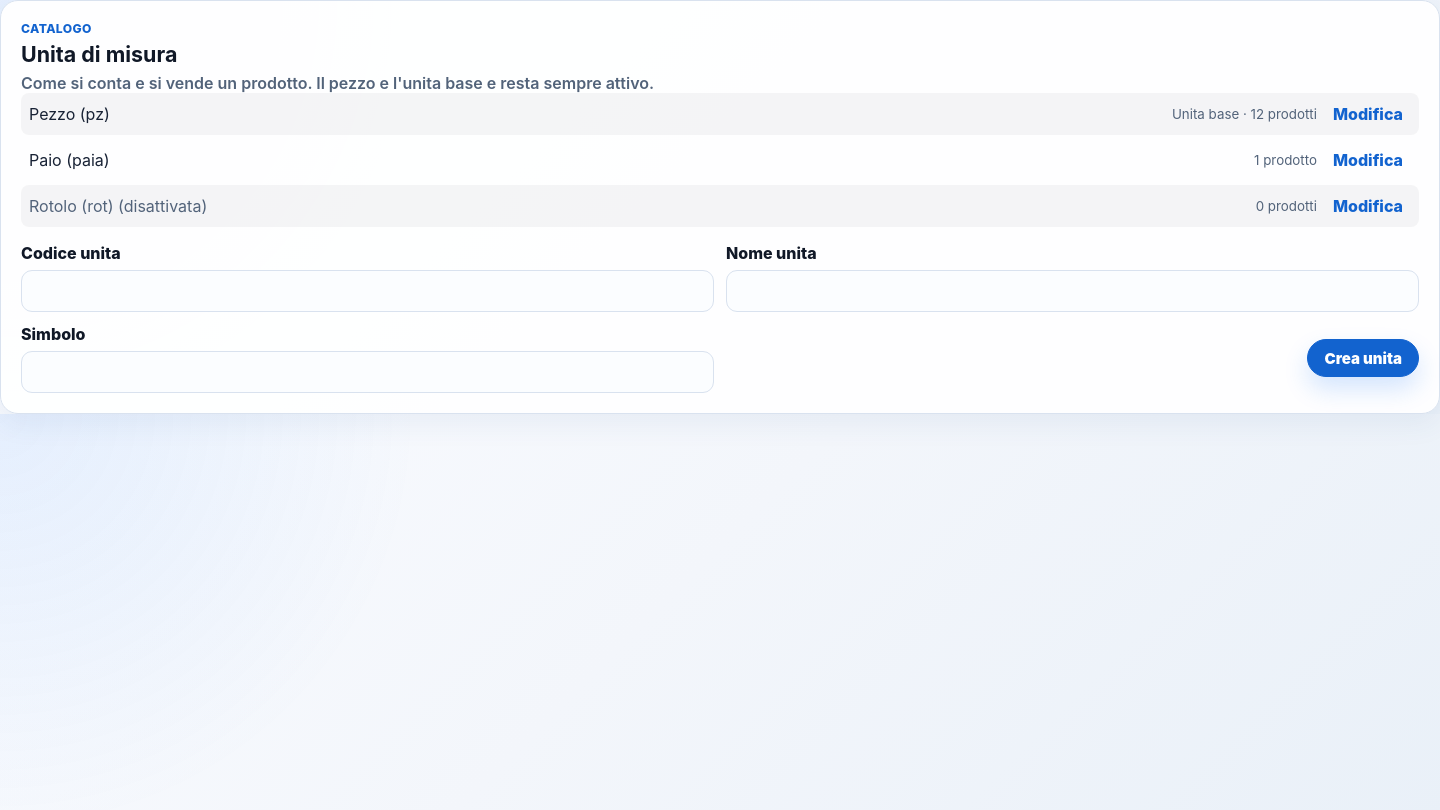
Scenario: UnitManager › elenca le unita con uso e stato e ne crea una nuova
Expected: the text "Unita base · 12 prodotti" is shown, [1172,106,1317,122]
Expected: the text "1 prodotto" is shown, [1254,152,1317,168]
Type "BOX" into the field labelled "Codice unita" at x=368, y=291, box [21,270,714,312]
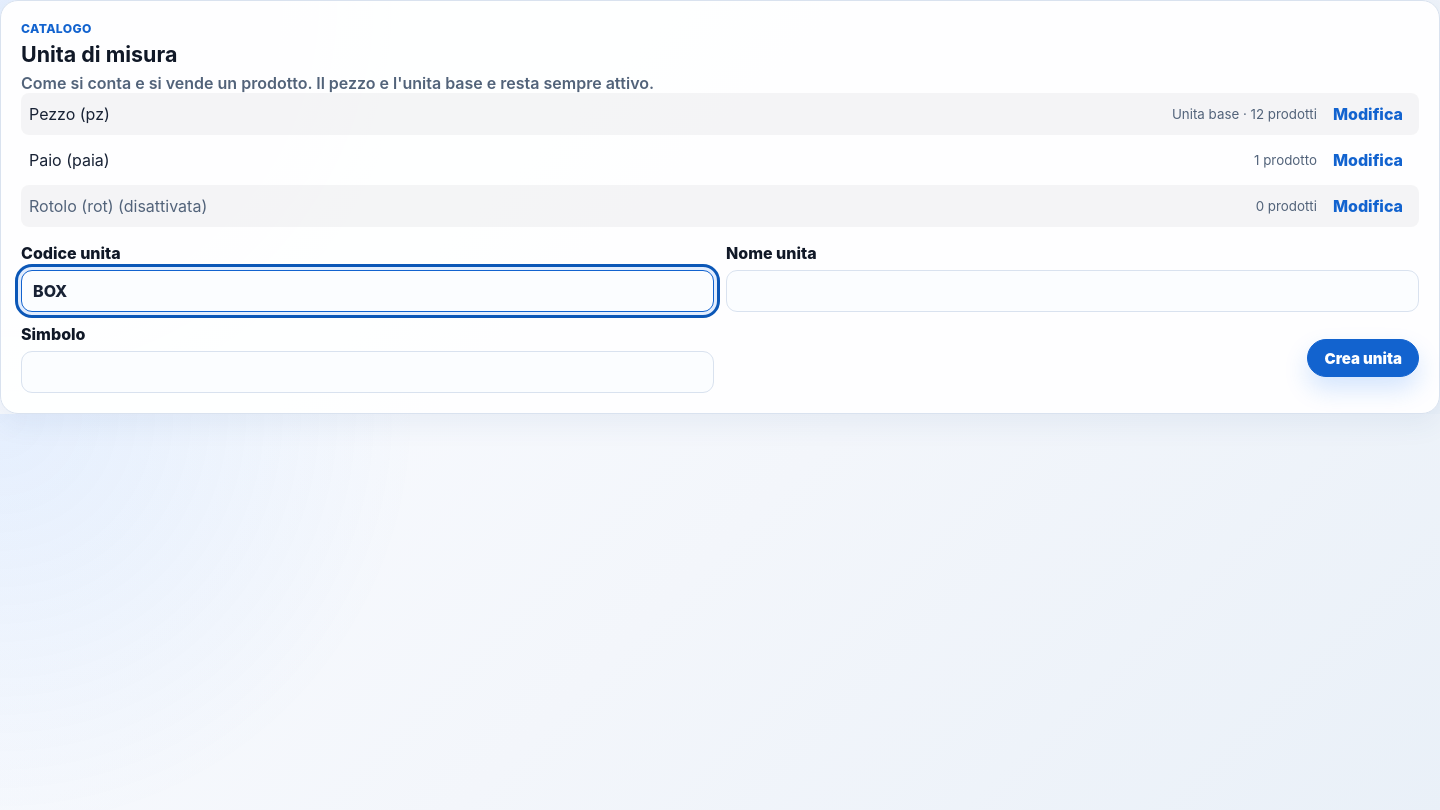
Type " Scatola " into the field labelled "Nome unita" at x=1072, y=291, box [726,270,1419,312]
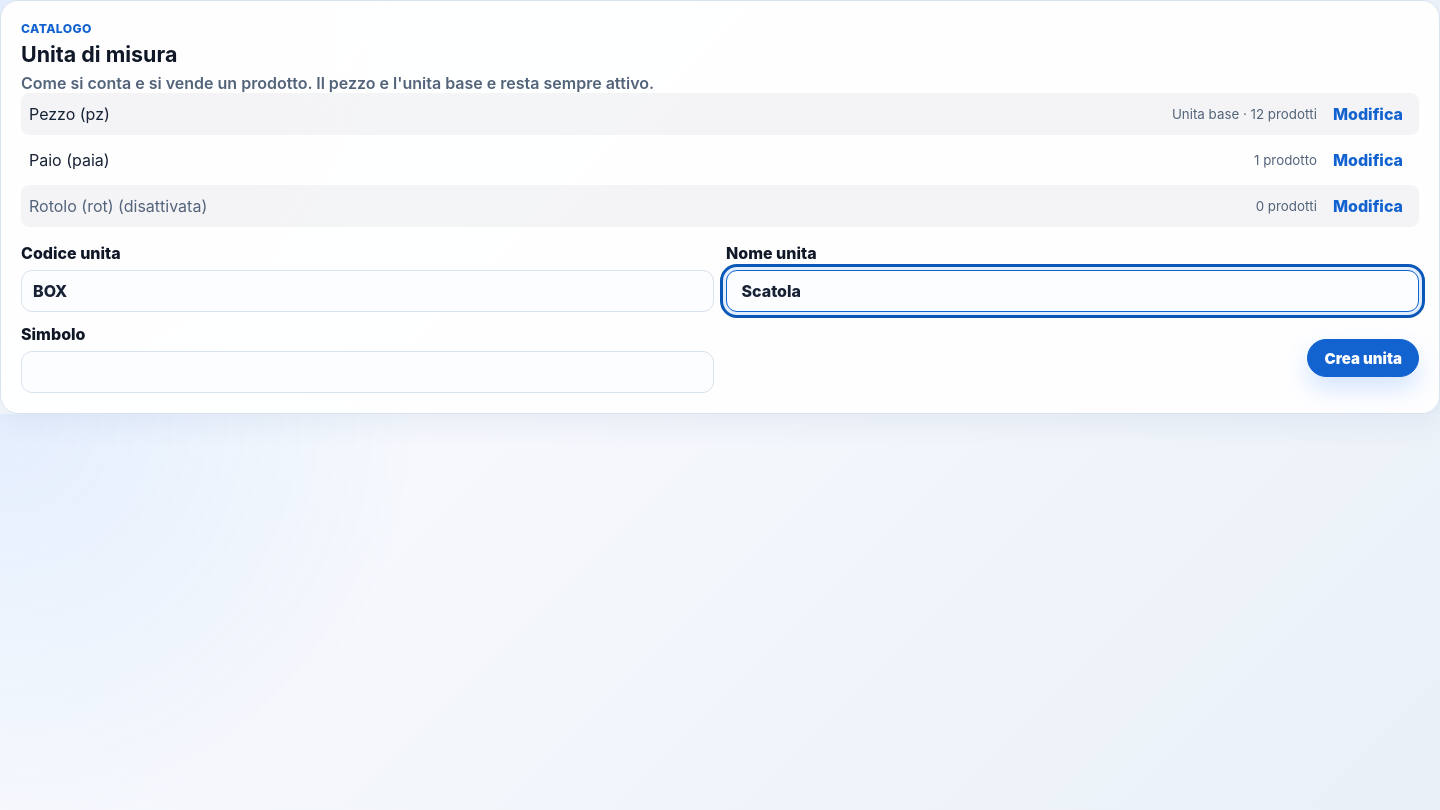
Type "sc" into the field labelled "Simbolo" at x=368, y=372, box [21,351,714,393]
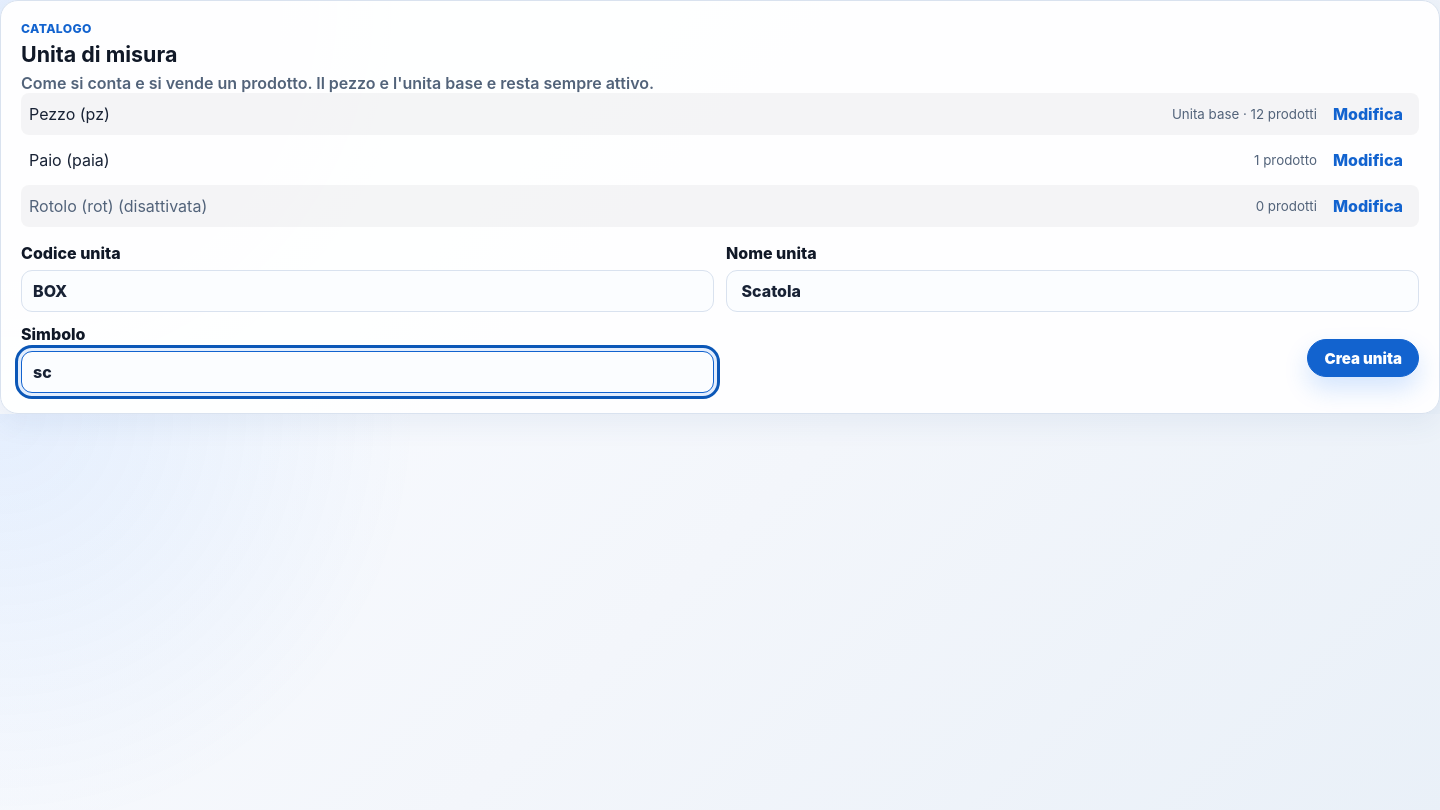
Click the button "Crea unita" at x=1363, y=358, box [1308,339,1419,377]
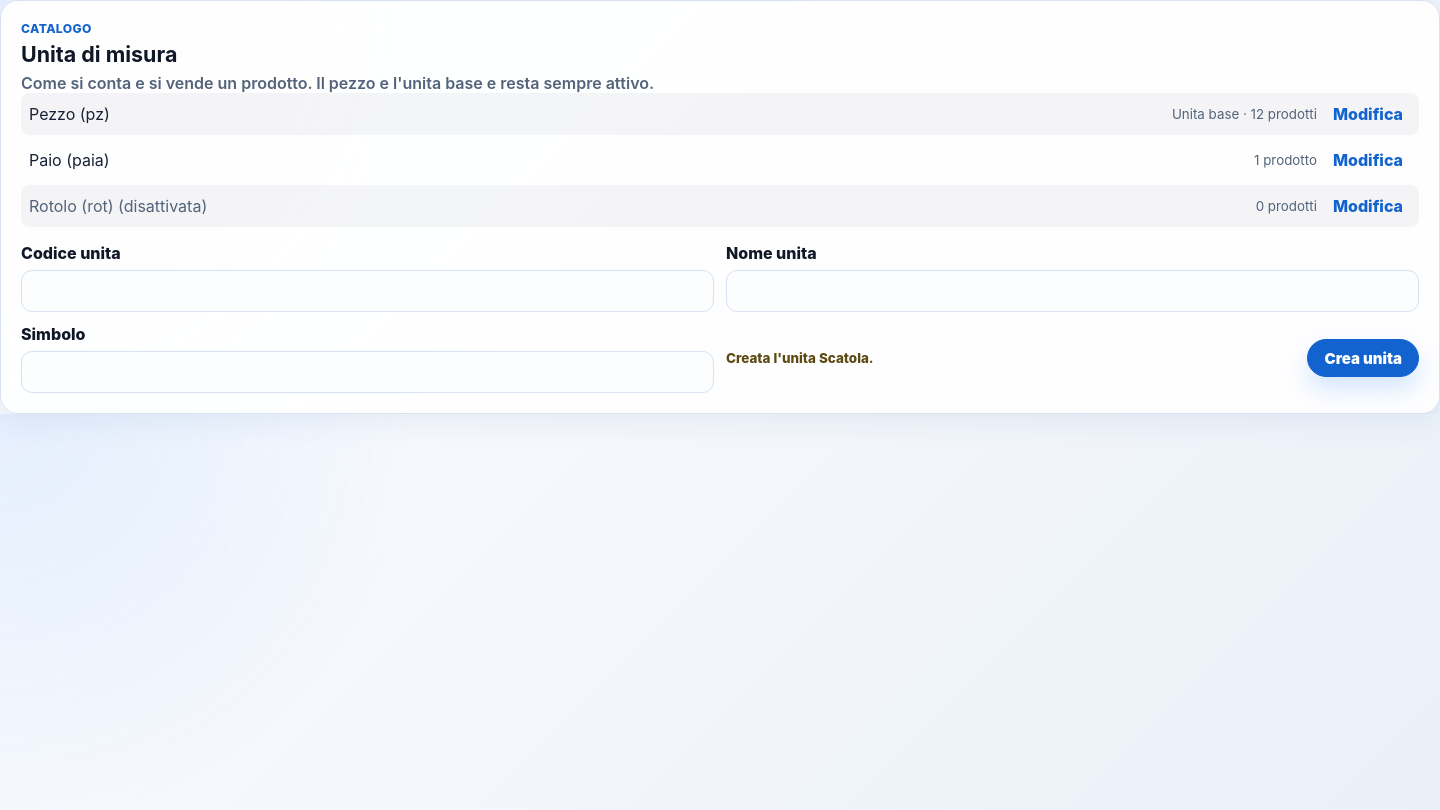
Now the message reads "Creata l'unita Scatola.", box [726,350,874,366]
